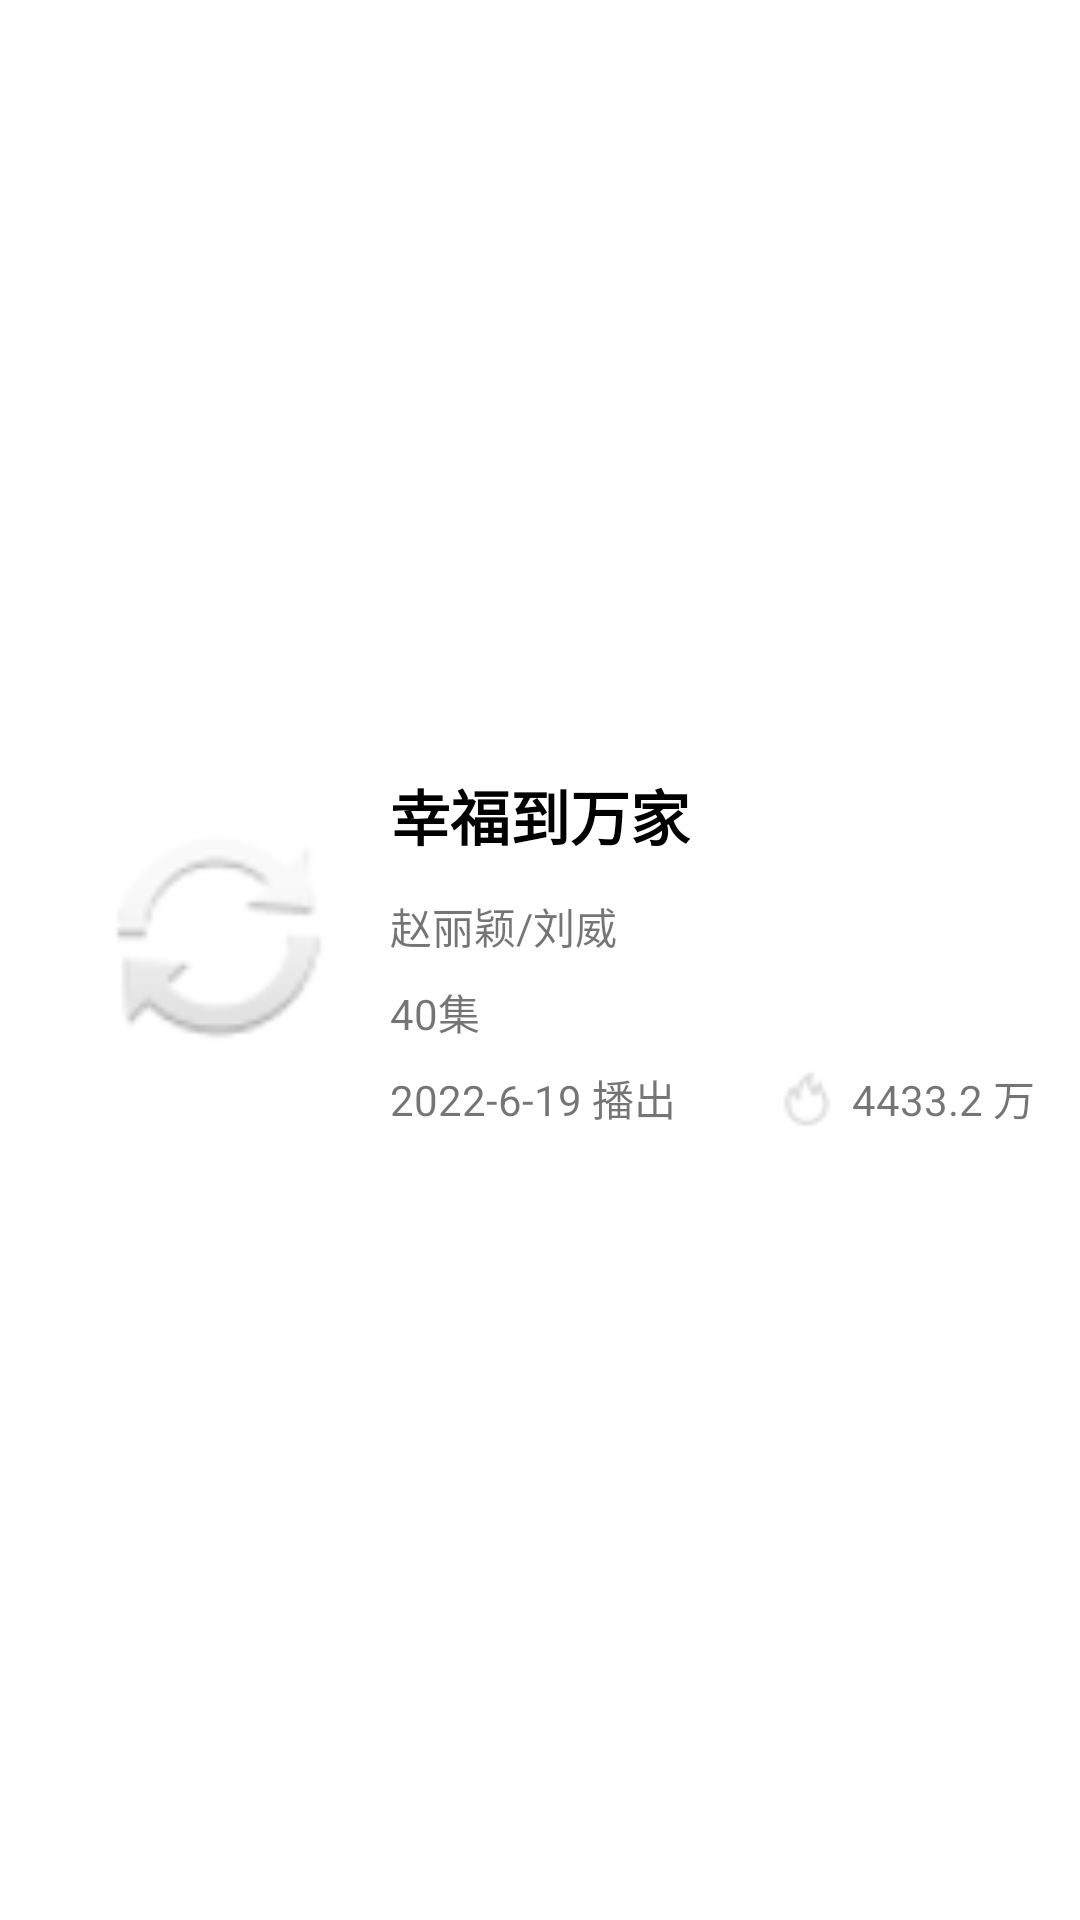

Icons on this 1080*1920 Android screen, each with its box as [x1,y1,x2,y2]:
huomiao: [786,1074,825,1125]
popup sync: [117,859,319,1036]
